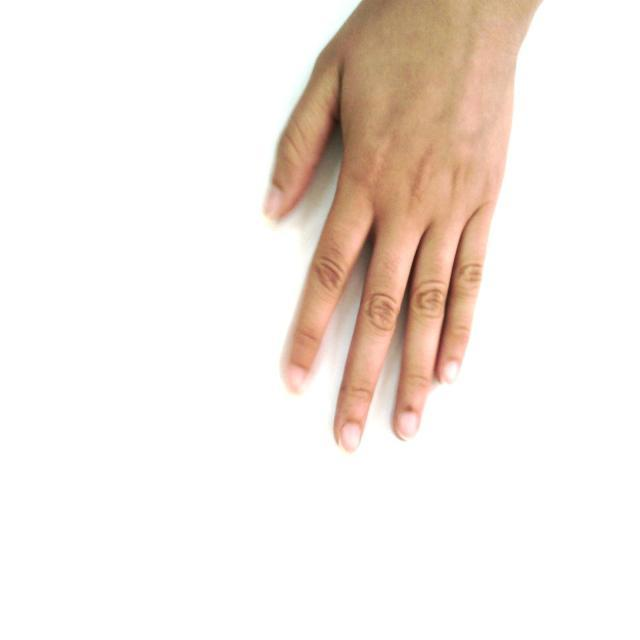Fingernail: (264, 187, 281, 219), (343, 423, 361, 452), (398, 412, 417, 438), (286, 366, 304, 393), (443, 362, 458, 382)
